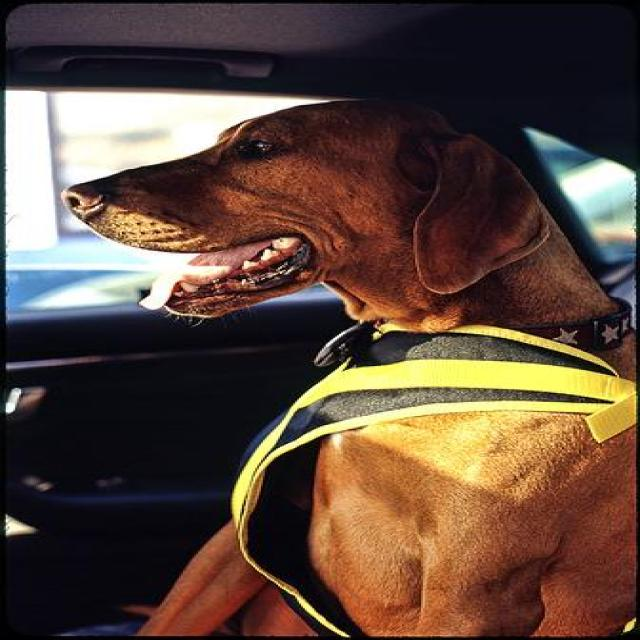rhodesian_ridgeback: (44, 81, 632, 636)
